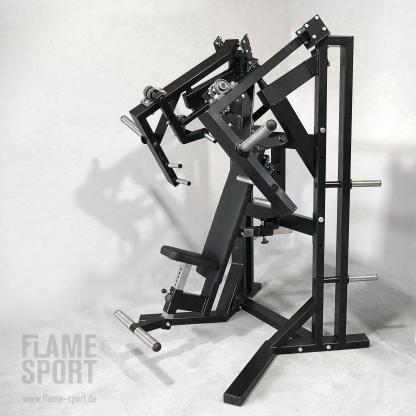Chest Press machine: (89, 11, 391, 407)
